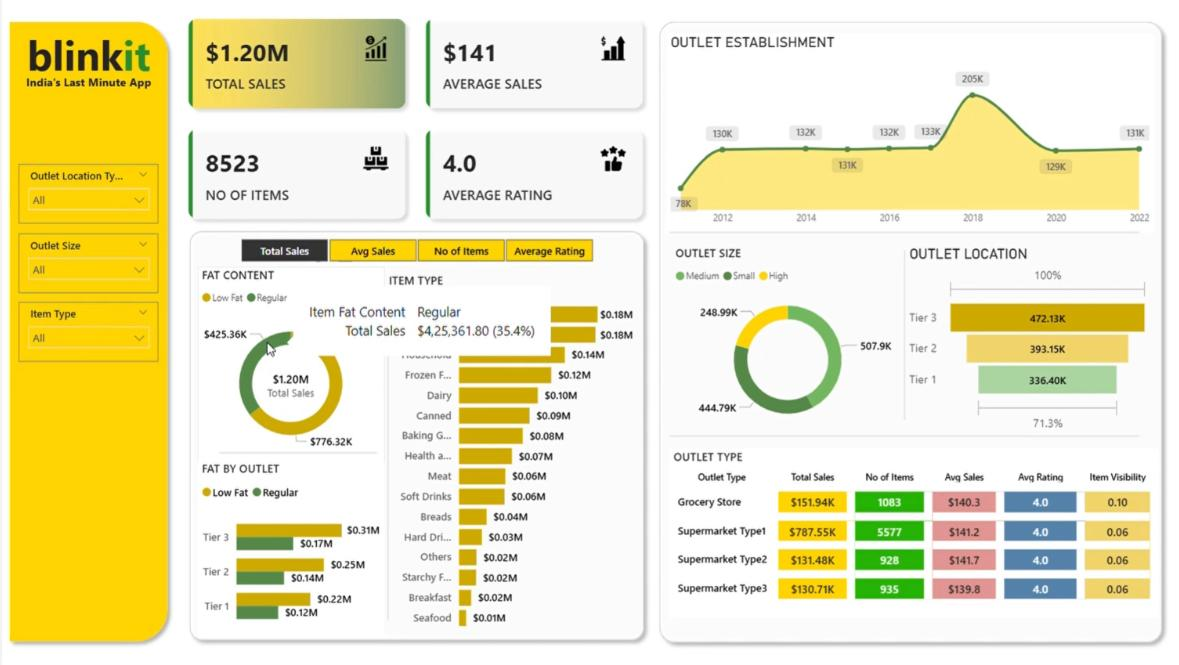

The dashboard page shown, as its layout file describes it:
{"tool":"powerbi","page":{"name":"Page 1","canvas":[1400,800],"ordinal":0},"visuals":[{"type":"shape","box":[0,26.6,204.5,748.9],"z":0},{"type":"textbox","box":[14.7,92.7,174.7,34],"z":1000},{"type":"textbox","box":[15,36.4,175,82.1],"z":2000},{"type":"cardVisual","fields":{"Data":["BlinkIT Grocery Data.Total Sales","BlinkIT Grocery Data.Avg Sales","BlinkIT Grocery Data.No of Items","BlinkIT Grocery Data.Average Rating"]},"box":[203.8,15,570,270],"z":3000},{"type":"shape","box":[212,274,554,500],"z":4000},{"type":"donutChart","title":"FAT CONTENT","fields":{"Y":["BlinkIT Grocery Data.No of Items"],"Category":["BlinkIT Grocery Data.Item Fat Content"]},"box":[231.2,325,220,230],"z":5000},{"type":"slicer","fields":{"Values":["Metrices.Metrices"]},"box":[256.2,285,465,40],"z":6000},{"type":"cardVisual","fields":{"Data":["BlinkIT Grocery Data.No of Items"]},"box":[290,431.1,102.2,57.8],"z":7000},{"type":"clusteredBarChart","title":"FAT BY OUTLET","fields":{"Y":["BlinkIT Grocery Data.No of Items"],"Category":["BlinkIT Grocery Data.Outlet Location Type"],"Series":["BlinkIT Grocery Data.Item Fat Content"]},"box":[231.5,553.2,220,209.8],"z":8000},{"type":"shape","box":[256.2,537.5,186.2,13.8],"z":9000},{"type":"shape","box":[451,349,8,393],"z":10000},{"type":"barChart","title":"ITEM TYPE","fields":{"Y":["BlinkIT Grocery Data.No of Items"],"Category":["BlinkIT Grocery Data.Item Type"]},"box":[451.7,331.7,298.3,431.7],"z":11000},{"type":"shape","box":[766.2,26.2,611.2,750],"z":12000},{"type":"lineChart","title":"OUTLET ESTABLISHMENT","fields":{"Y":["Sum(BlinkIT Grocery Data.Sales)"],"Category":["BlinkIT Grocery Data.Outlet Establishment Year"]},"box":[783.8,50,575,235],"z":13000},{"type":"shape","box":[1058.8,305,12.5,200],"z":14000},{"type":"donutChart","title":"OUTLET SIZE","fields":{"Y":["Sum(BlinkIT Grocery Data.Sales)"],"Category":["BlinkIT Grocery Data.Outlet Size"]},"box":[790,298.8,275,225],"z":15000},{"type":"shape","box":[787.5,517.5,555,13.8],"z":16000},{"type":"funnel","title":"OUTLET LOCATION","fields":{"Y":["Sum(BlinkIT Grocery Data.Sales)"],"Category":["BlinkIT Grocery Data.Outlet Location Type"]},"box":[1065.8,298.9,292.5,225.1],"z":17000},{"type":"shape","box":[787.5,277.5,555,13.8],"z":18000},{"type":"pivotTable","title":"OUTLET TYPE","fields":{"Rows":["BlinkIT Grocery Data.Outlet Type"],"Values":["BlinkIT Grocery Data.Total Sales","BlinkIT Grocery Data.No of Items","BlinkIT Grocery Data.Avg Sales","BlinkIT Grocery Data.Average Rating","Avg(BlinkIT Grocery Data.Item Visibility)"]},"box":[787.5,538.8,577.5,198.8],"z":19000},{"type":"slicer","fields":{"Values":["BlinkIT Grocery Data.Outlet Location Type"]},"box":[20,203.8,165,70],"z":20000},{"type":"slicer","fields":{"Values":["BlinkIT Grocery Data.Outlet Size"]},"box":[20,285,165,70],"z":21000},{"type":"slicer","fields":{"Values":["BlinkIT Grocery Data.Item Type"]},"box":[20,366.2,165,70],"z":22000}]}

Visuals, with their boxes in screenshot pixels (x1, y1, x2, y2), scaled from the page's 1400x800 canvas onto the 1179x665 screenshot:
shape: region(0, 22, 172, 645)
textbox: region(12, 77, 160, 105)
textbox: region(13, 30, 160, 99)
cardVisual - BlinkIT Grocery Data.Total Sales x BlinkIT Grocery Data.Avg Sales: region(172, 12, 652, 237)
shape: region(179, 228, 645, 643)
"FAT CONTENT" donutChart: region(195, 270, 380, 461)
slicer - Metrices.Metrices: region(216, 237, 607, 270)
cardVisual - BlinkIT Grocery Data.No of Items: region(244, 358, 330, 406)
"FAT BY OUTLET" clusteredBarChart: region(195, 460, 380, 634)
shape: region(216, 447, 373, 458)
shape: region(380, 290, 387, 617)
"ITEM TYPE" barChart: region(380, 276, 632, 635)
shape: region(645, 22, 1160, 645)
"OUTLET ESTABLISHMENT" lineChart: region(660, 42, 1144, 237)
shape: region(892, 254, 902, 420)
"OUTLET SIZE" donutChart: region(665, 248, 897, 435)
shape: region(663, 430, 1131, 442)
"OUTLET LOCATION" funnel: region(898, 248, 1144, 436)
shape: region(663, 231, 1131, 242)
"OUTLET TYPE" pivotTable: region(663, 448, 1150, 613)
slicer - BlinkIT Grocery Data.Outlet Location Type: region(17, 169, 156, 228)
slicer - BlinkIT Grocery Data.Outlet Size: region(17, 237, 156, 295)
slicer - BlinkIT Grocery Data.Item Type: region(17, 304, 156, 363)
